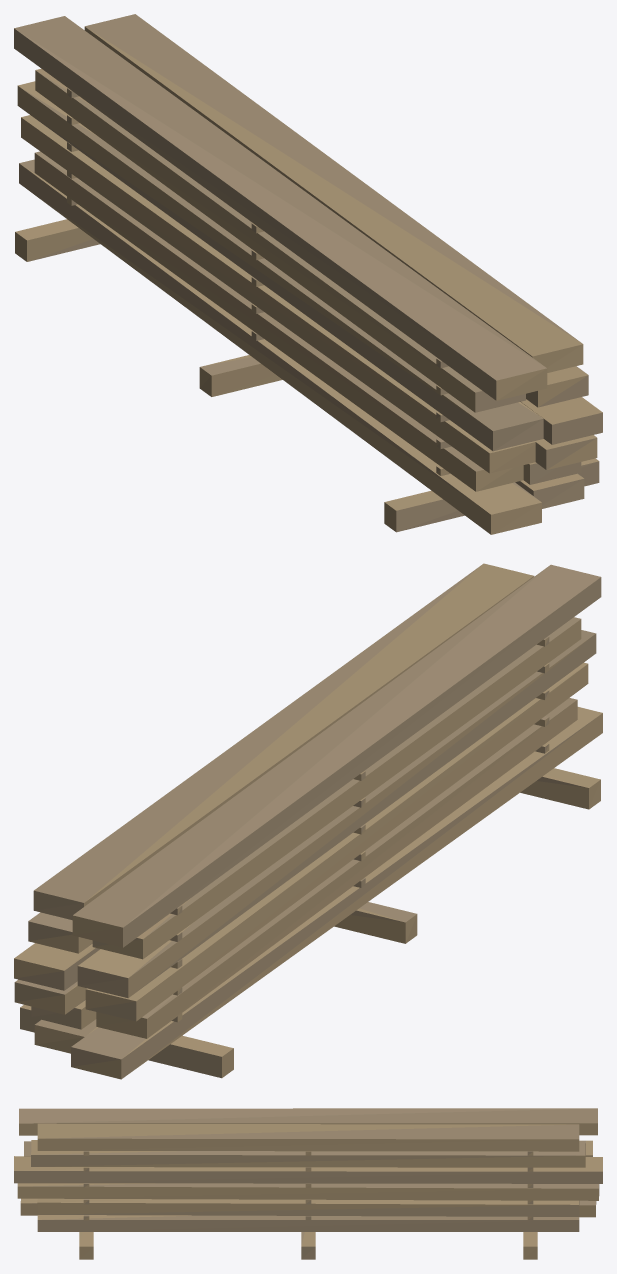
File: plank-pile-00.glb
3 views of the same model, one above another, from view 1: azimuth 30°, elevation 25°; view 2: azimuth 150°, elevation 25°; view 3: azimuth 270°, elevation 25° (orthographic). The views are drawn at different scales.
Visible parts, largest first — view 1: plank_pile_00; view 2: plank_pile_00; view 3: plank_pile_00.
Part boxes in pixels (x1,y1,x2,y2): plank_pile_00: (14,14,602,534); plank_pile_00: (14,563,602,1079); plank_pile_00: (14,1108,602,1259).
Size of the model in its own units: 0.7899 by 0.655 by 3.3.
